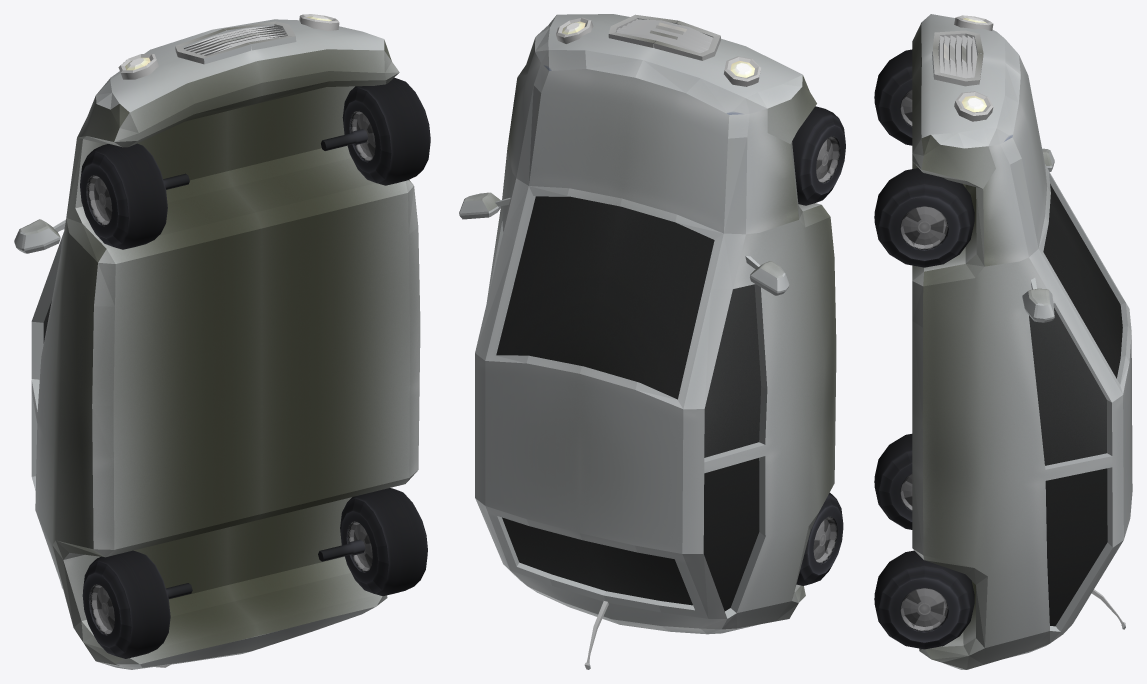
Rendered from HatchBack01.FBX.
3 views of the same model, side by side, from view 1: azimuth 30°, elevation 25°; view 2: azimuth 150°, elevation 25°; view 3: azimuth 270°, elevation 25° (orthographic). The views are drawn at different scales.
Parts seen in each view (by area): view 1: Box026, HatchBackWheels; view 2: Box026, HatchBackWheels; view 3: Box026, HatchBackWheels.
Part boxes in pixels (<box>): Box026: <box>14,14,420,669</box>; HatchBackWheels: <box>80,77,430,658</box>; Box026: <box>459,14,836,669</box>; HatchBackWheels: <box>792,106,845,585</box>; Box026: <box>912,14,1132,669</box>; HatchBackWheels: <box>874,49,974,649</box>.
Bounding box in the file's own units: 16.13 × 11 × 27.35.
